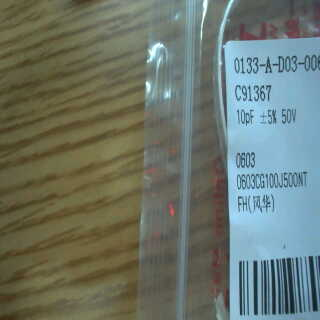10pF: (233, 106, 259, 127)
